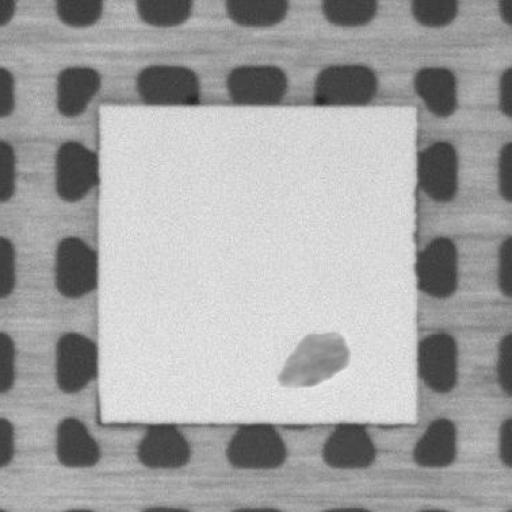DIE_INK: (278, 324, 355, 392)
